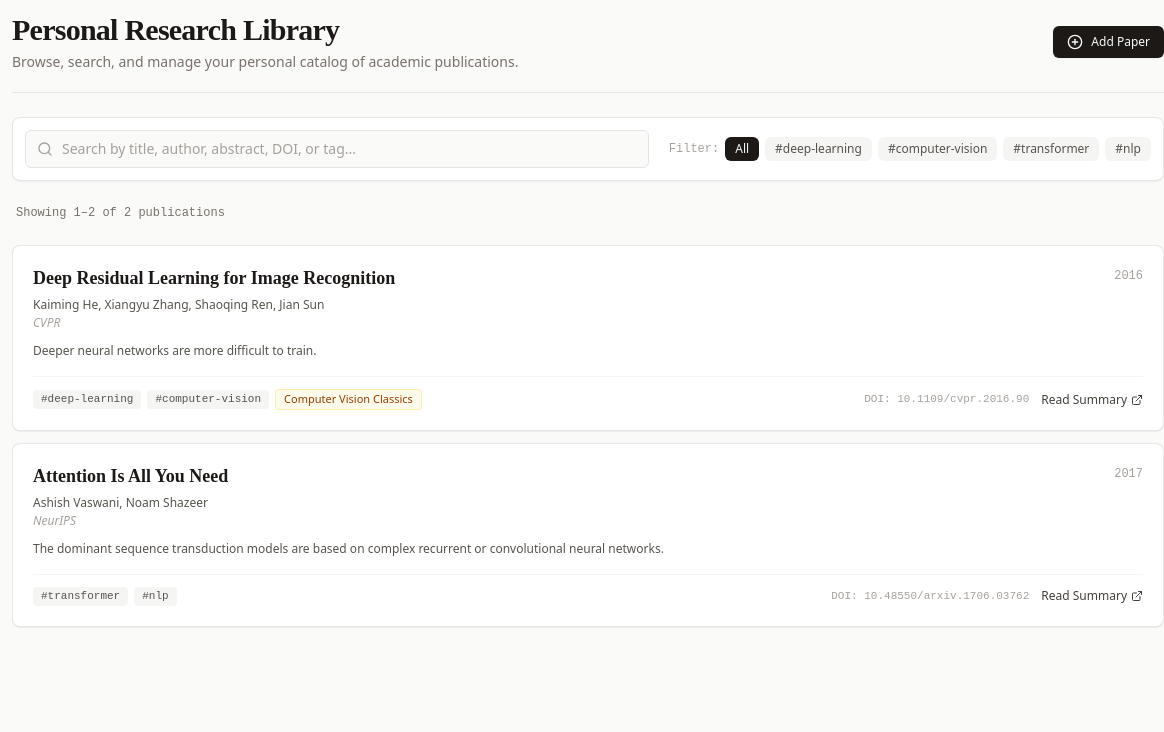
Test: LibraryPage (Catalog & Search) › renders empty search results state when search yields no matches and allows clearing
The image size is (1164, 732).
Expected: the link "Deep Residual Learning for Image Recognition" is shown, [33,268,395,288]
Type "quantum gravity string theory" into the field with placeholder "Search by title, author, abstract, DOI, or tag..." at (337, 149), box [25,130,649,168]
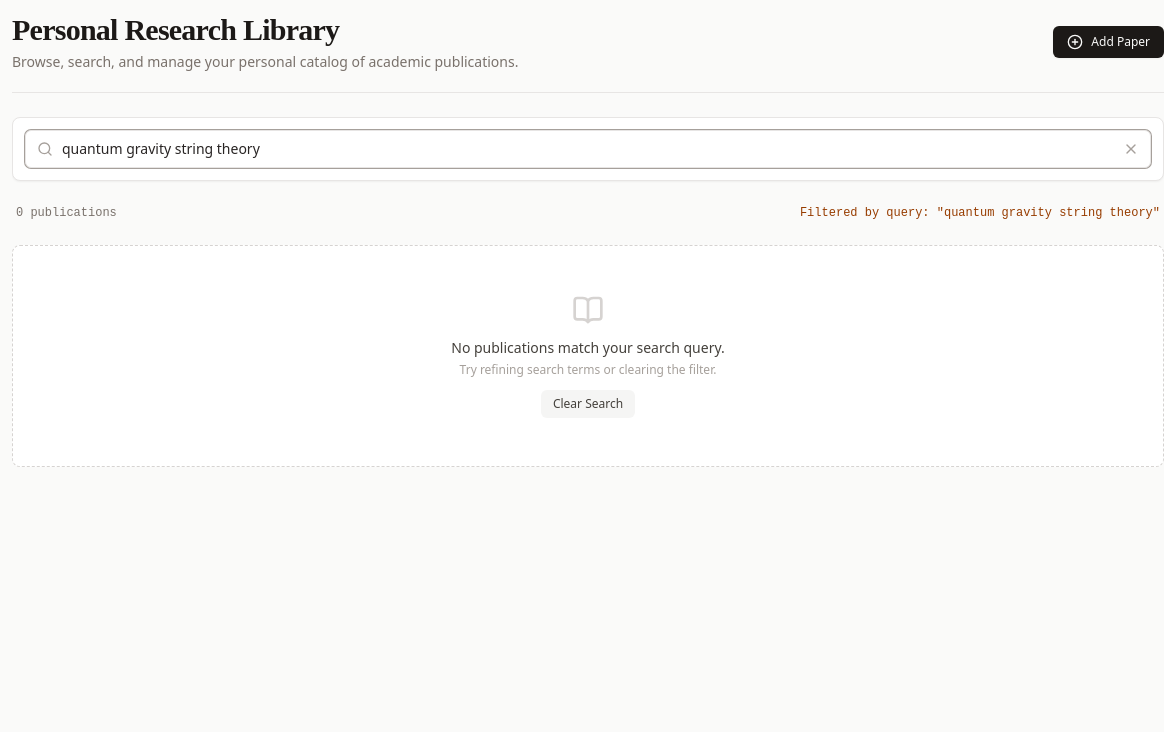
Expected: the text "No publications match your search query." is shown, [451,338,725,357]
// Clear search using the button inside the empty search results state
Click the button named "clear search" at (1131, 149), box [1123,141,1139,157]
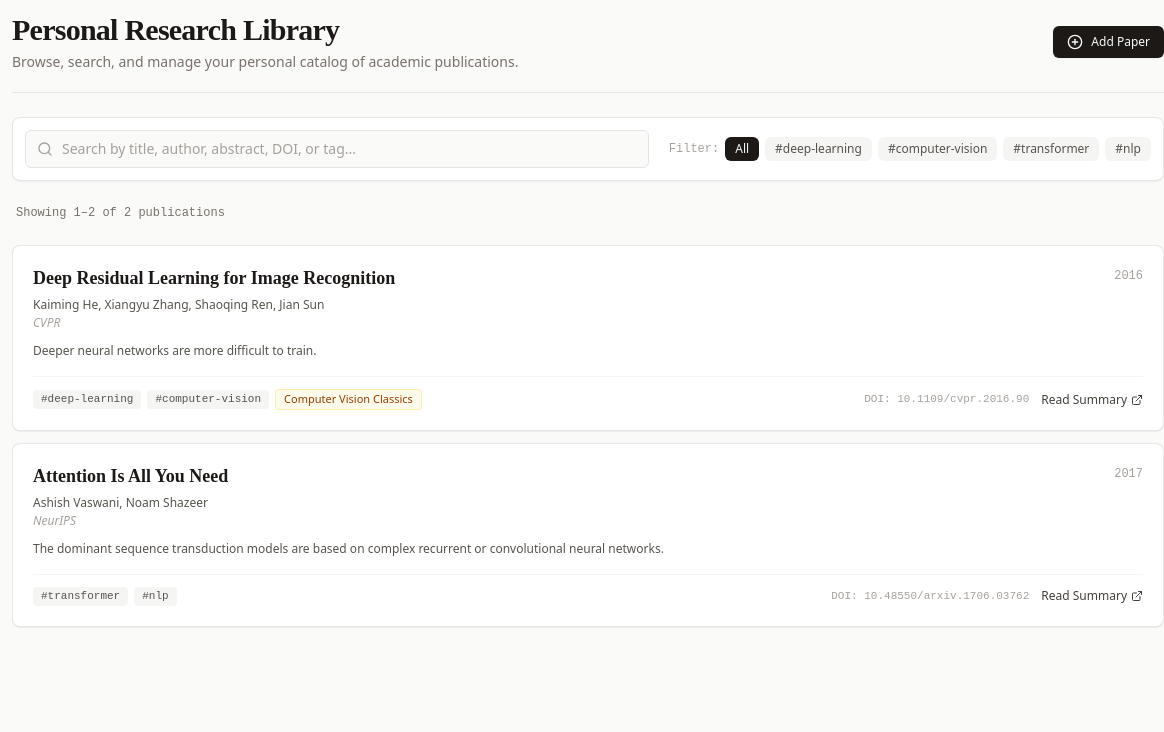
Expected: the link "Deep Residual Learning for Image Recognition" is shown, [33,268,395,288]
